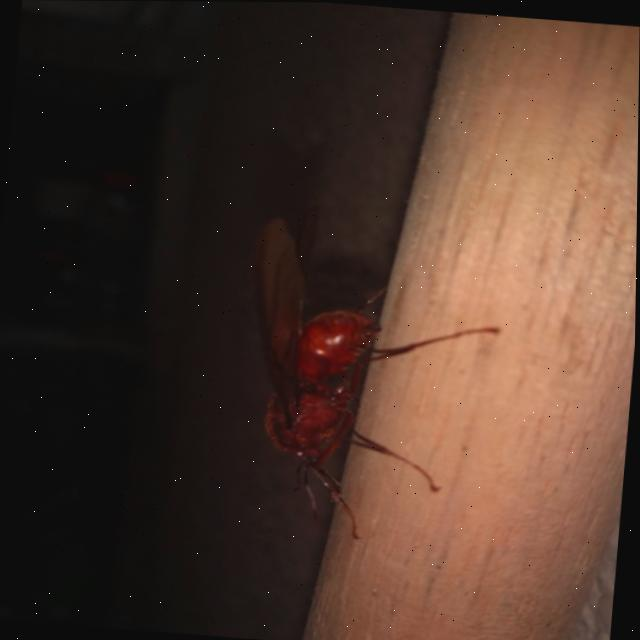Alive-Male-Alate: (224, 207, 511, 549)
